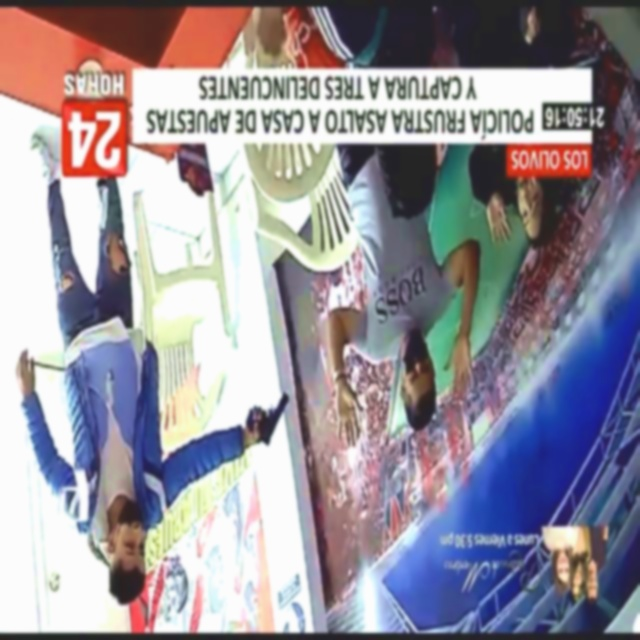gun: (238, 380, 294, 468)
